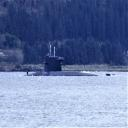submarine: (24, 47, 119, 76)
